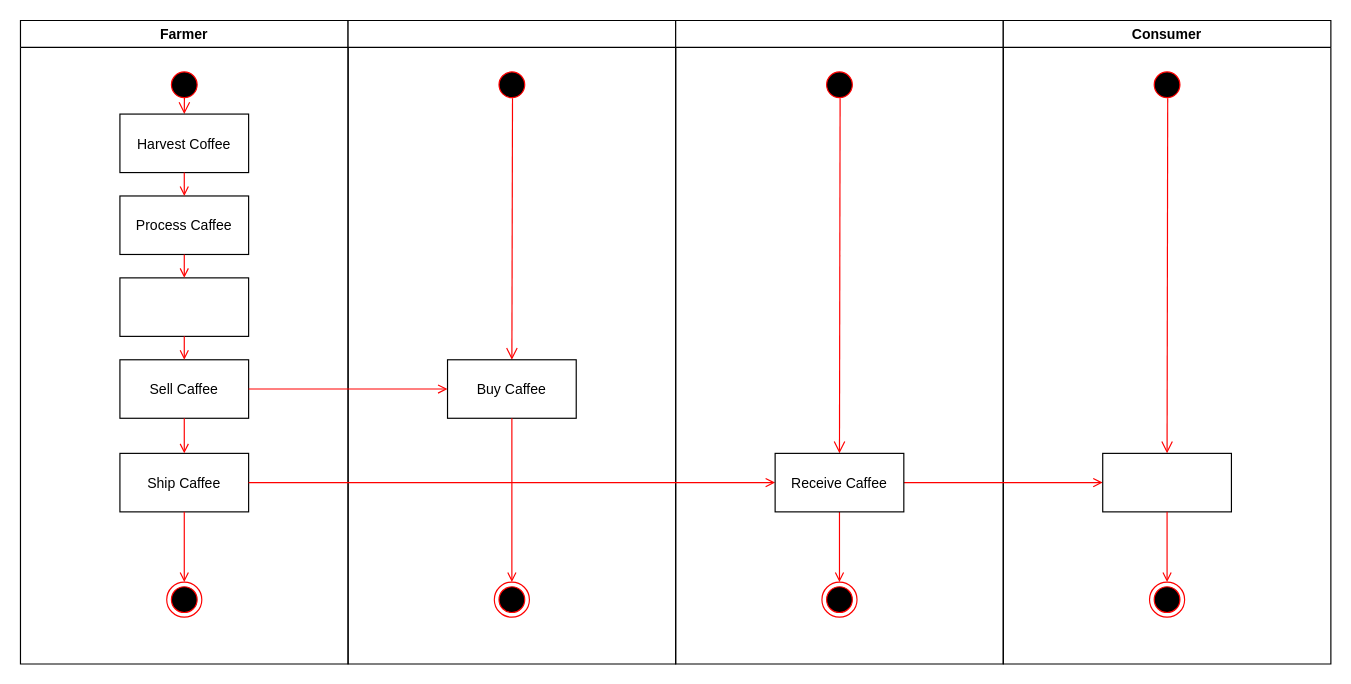
This 1351x684 diagram has some shape labels left out. The shapes that lost their labels are listed below. From the top down, each one's box as (x1, y1, x2, y2) in pixels, then its label:
(119, 277, 249, 336): Pack Caffee
(347, 19, 676, 664): Distributor
(675, 19, 1003, 664): Retailer
(1102, 452, 1231, 512): Purchase Caffee
